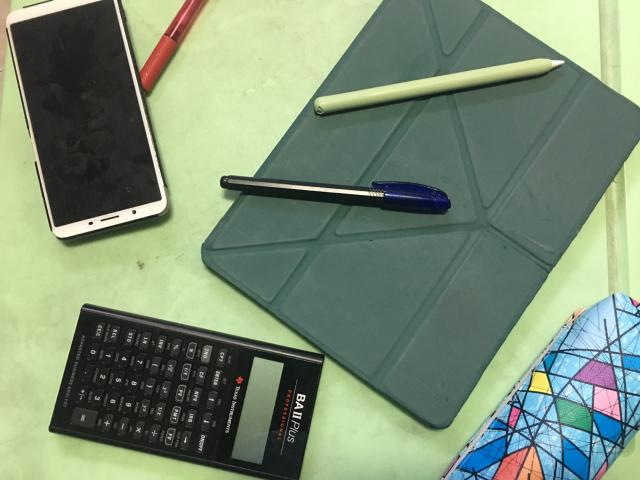Mobile phone: (5, 0, 172, 246)
Pen: (219, 176, 453, 215), (138, 0, 213, 96)
